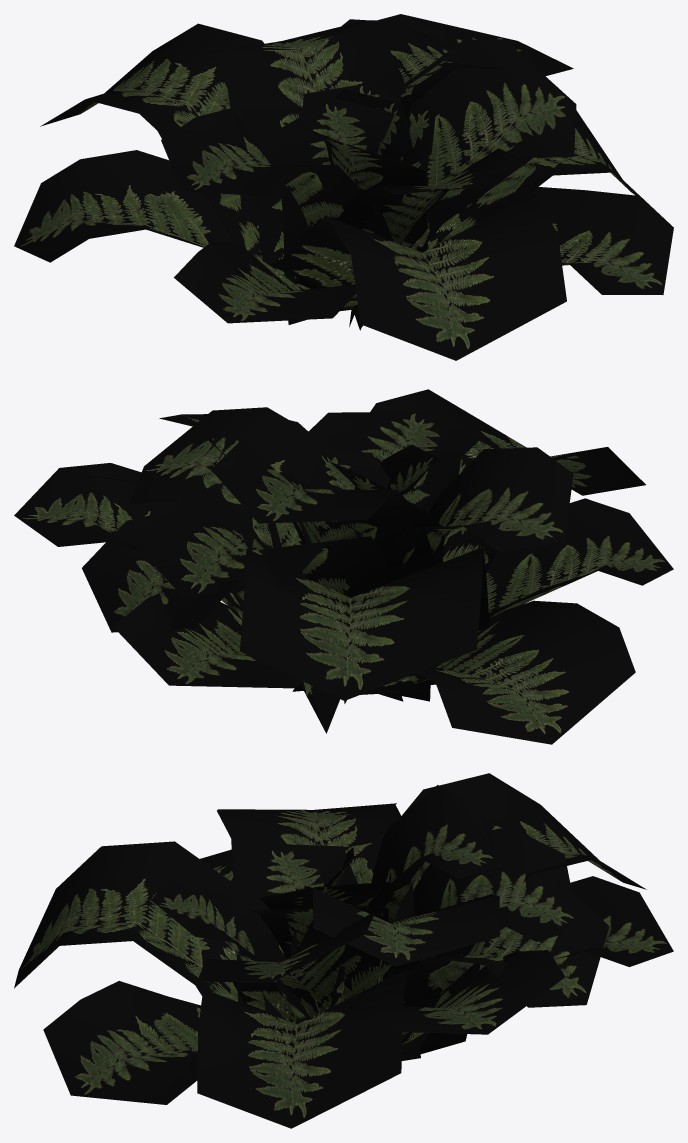
The model's file is bush_medium.fbx.
The picture shows the model from 3 angles, top to bottom: view 1: azimuth 30°, elevation 25°; view 2: azimuth 150°, elevation 25°; view 3: azimuth 270°, elevation 25°; orthographic projection. The views are drawn at different scales.
Visible parts, largest first — view 1: polySurface2; view 2: polySurface2; view 3: polySurface2.
Part boxes in pixels (box(x1,y1,x2,y2)): polySurface2: box(14, 14, 673, 360); polySurface2: box(14, 389, 673, 744); polySurface2: box(14, 773, 673, 1128).
Size of the model in its own units: 3.86 by 1.66 by 4.04.
